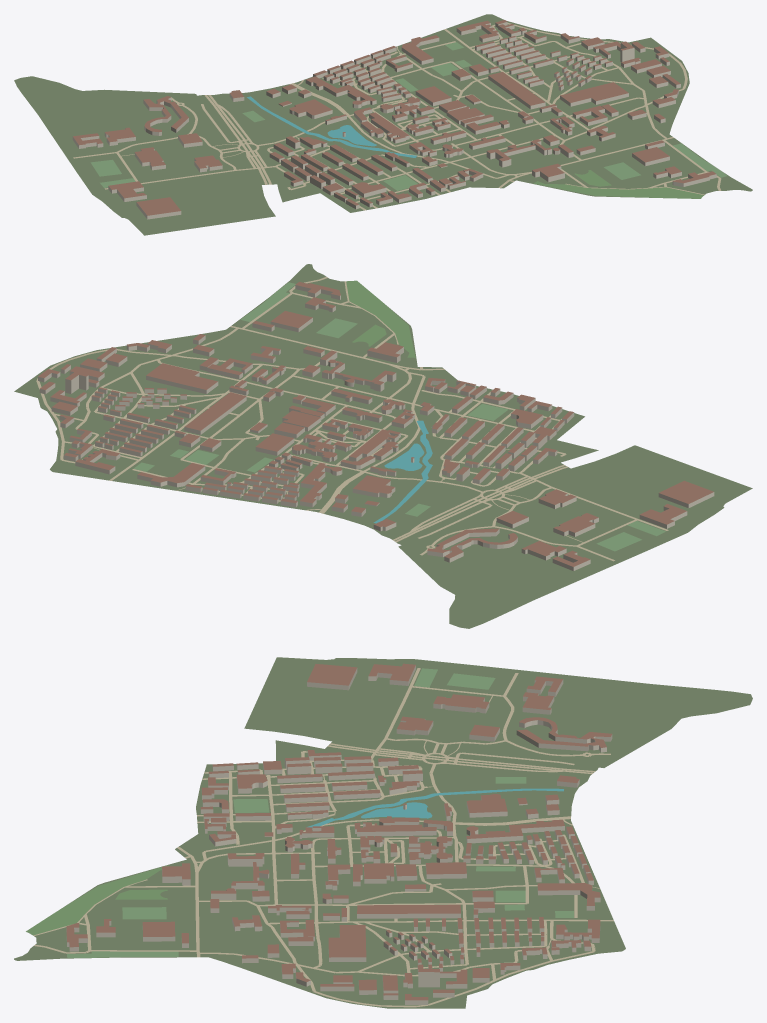
3 views of the same model, one above another, from view 1: azimuth 30°, elevation 25°; view 2: azimuth 150°, elevation 25°; view 3: azimuth 270°, elevation 25° (orthographic). The views are drawn at different scales.
Parts seen in each view (by area): view 1: campus-ground, roofs, buildings, environment (×4); view 2: campus-ground, roofs, buildings, environment (×4); view 3: campus-ground, roofs, environment (×4), buildings.
Part boxes in pixels (<box>): campus-ground: <box>14,14,752,235</box>; roofs: <box>73,20,715,215</box>; buildings: <box>72,22,716,219</box>; environment (×4): <box>73,23,727,210</box>; campus-ground: <box>14,264,752,628</box>; roofs: <box>38,282,713,566</box>; buildings: <box>38,285,714,570</box>; environment (×4): <box>36,277,668,561</box>; campus-ground: <box>14,657,752,1008</box>; roofs: <box>66,663,611,1000</box>; environment (×4): <box>26,668,613,1007</box>; buildings: <box>66,665,612,1004</box>.
Size of the model in its own units: 1958 by 39.8 by 1739.
